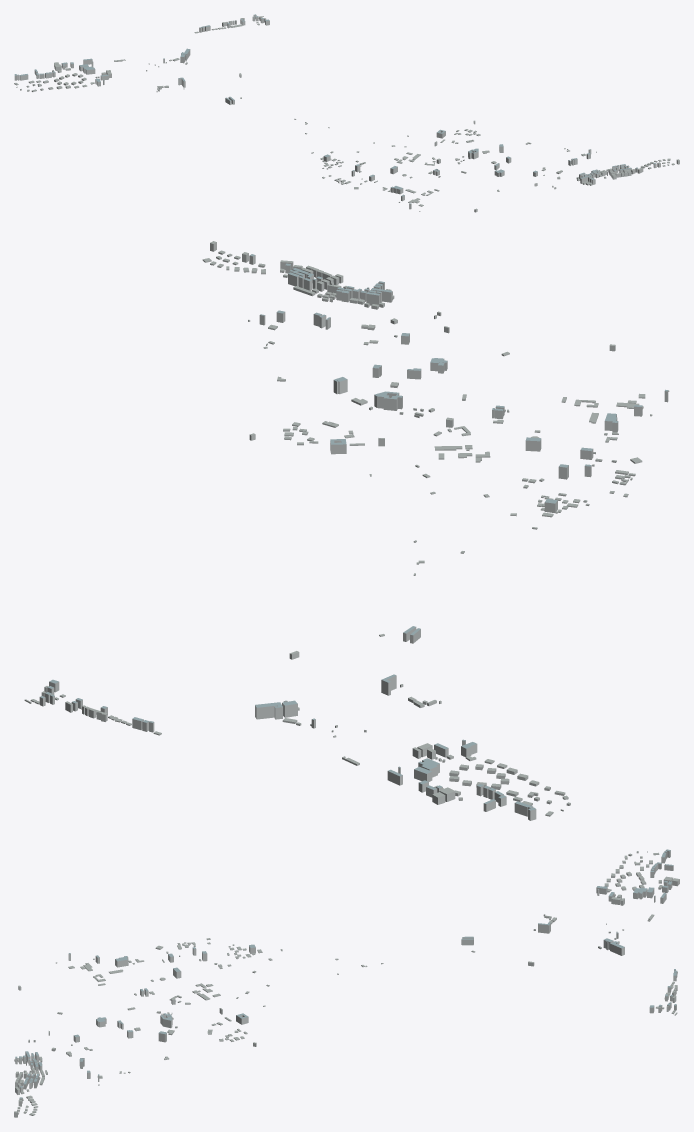
File: far.glb
3 renders of one model, top to bottom at view 1: azimuth 30°, elevation 25°; view 2: azimuth 150°, elevation 25°; view 3: azimuth 270°, elevation 25°, orthographic. The views are drawn at different scales.
Size of the model in its own units: 1990 by 29.55 by 2109.
